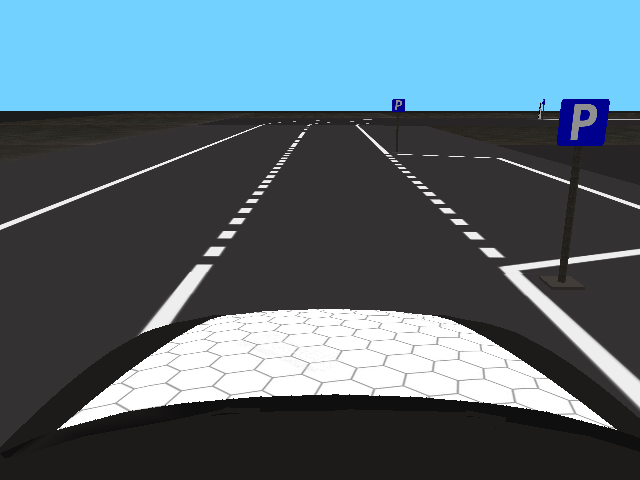parking: (558, 98, 610, 146), (391, 98, 406, 113)
